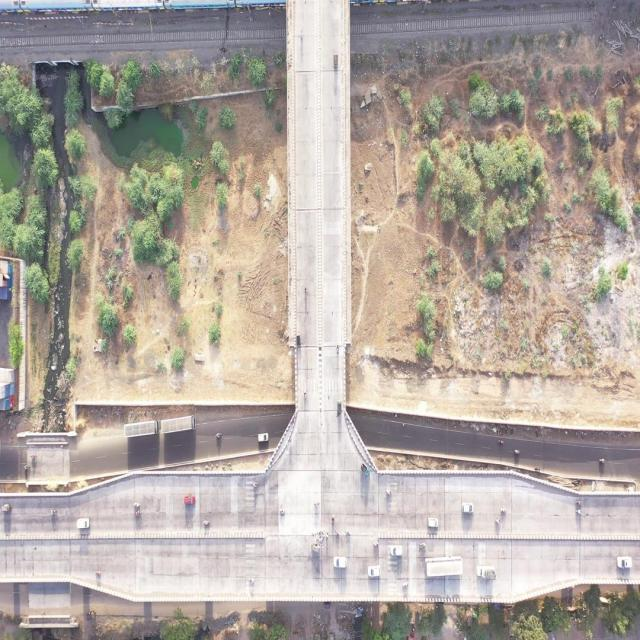3W: (310, 543, 321, 556), (333, 52, 339, 71), (337, 399, 344, 415), (0, 502, 11, 512), (87, 609, 96, 621), (296, 332, 302, 349), (322, 603, 331, 612)
Bus: (424, 557, 465, 578)
Cars: (617, 553, 634, 572), (366, 562, 382, 577), (333, 555, 348, 570), (76, 517, 91, 531), (390, 544, 405, 558), (461, 503, 475, 516), (184, 494, 196, 506), (428, 517, 439, 530), (257, 433, 270, 443)
LCV: (476, 564, 497, 583), (360, 460, 372, 479)
M2W: (596, 454, 608, 467), (278, 507, 288, 518), (401, 580, 410, 589), (22, 463, 32, 471), (303, 388, 309, 401), (494, 517, 502, 526), (513, 447, 521, 456), (304, 285, 310, 297), (28, 453, 38, 460), (501, 505, 508, 515), (496, 439, 506, 446), (335, 528, 341, 539), (299, 29, 304, 42), (95, 569, 102, 578), (252, 480, 259, 489), (372, 540, 379, 549), (419, 542, 426, 551), (386, 488, 393, 497), (575, 508, 584, 515), (248, 577, 256, 584), (50, 509, 59, 515), (134, 510, 143, 516), (345, 528, 351, 537), (336, 342, 340, 355), (133, 501, 140, 508), (203, 520, 210, 527), (216, 432, 223, 439), (313, 501, 320, 508), (574, 500, 583, 505), (331, 513, 335, 524)
MAV: (161, 415, 196, 434), (124, 420, 159, 436)
